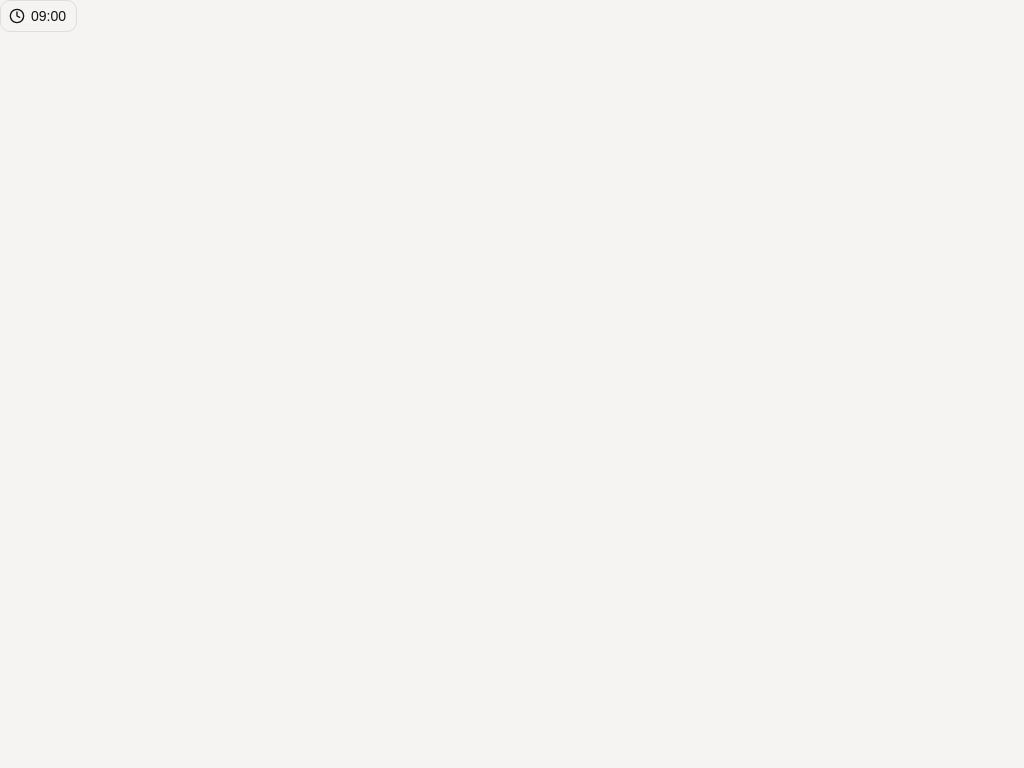
TimePicker › stays controlled
Later steps or results of the test are not shown.
Step 1. Click the button → click(38, 16), box [0,0,77,32]
(page scrolled)
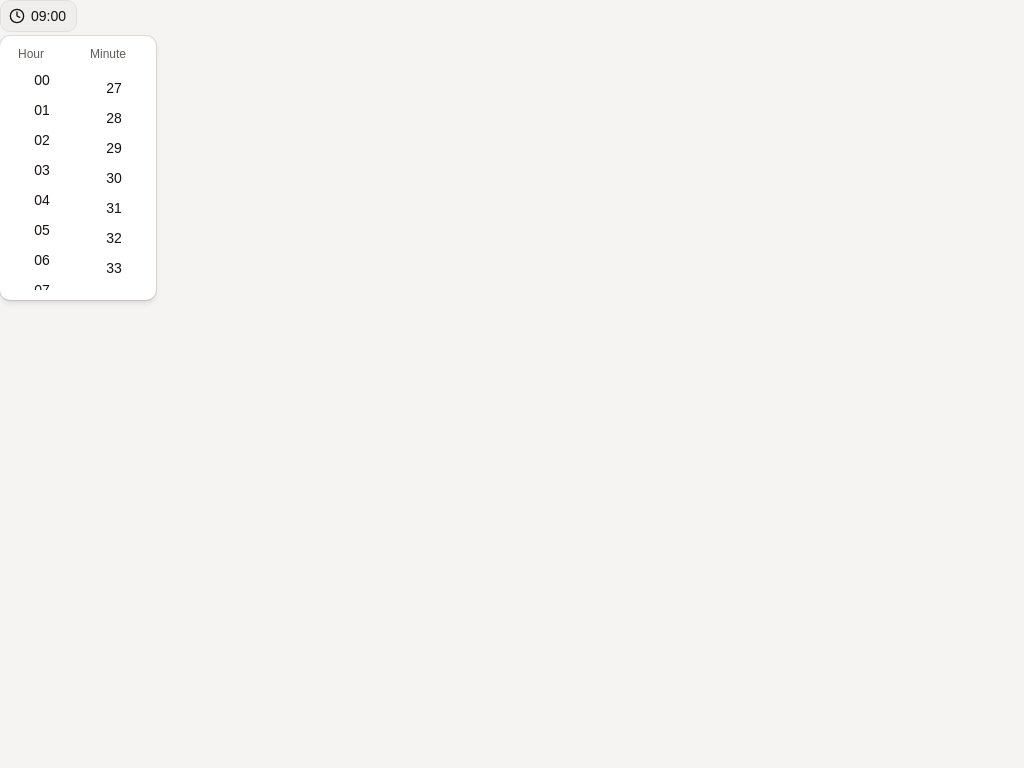
Step 2. Click the option "30" → click(114, 178), box [106,170,122,186]
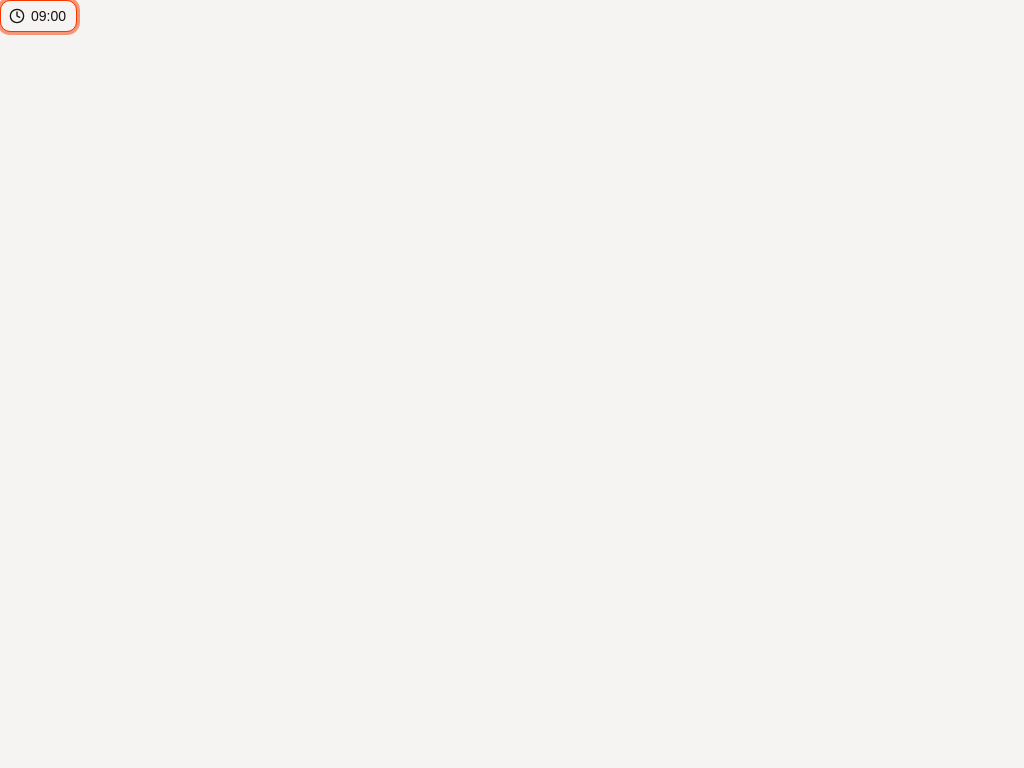
Check: the button reads "09:00", box [0,0,77,32]
Check: the list is gone
